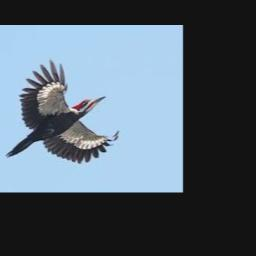Woodpecker: (6, 59, 119, 163)
